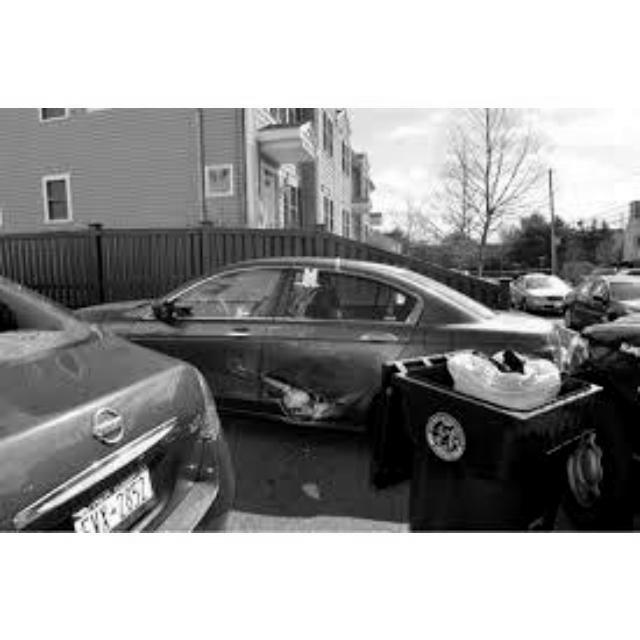doorouter-dent: (263, 314, 377, 428)
